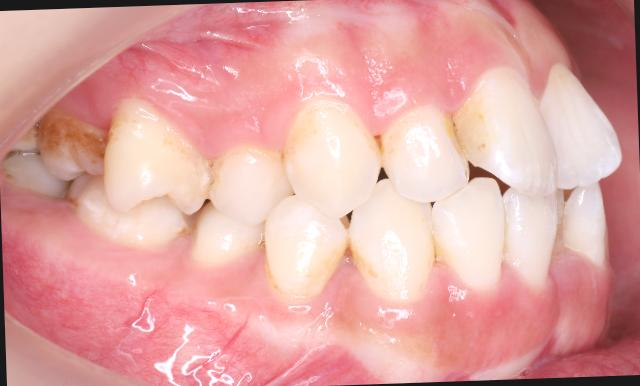canine class III 1/4: (256, 74, 436, 314)
molar class III 3/4: (32, 102, 203, 254)
